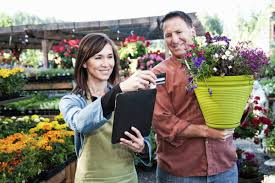white_male: (160, 16, 187, 54)
